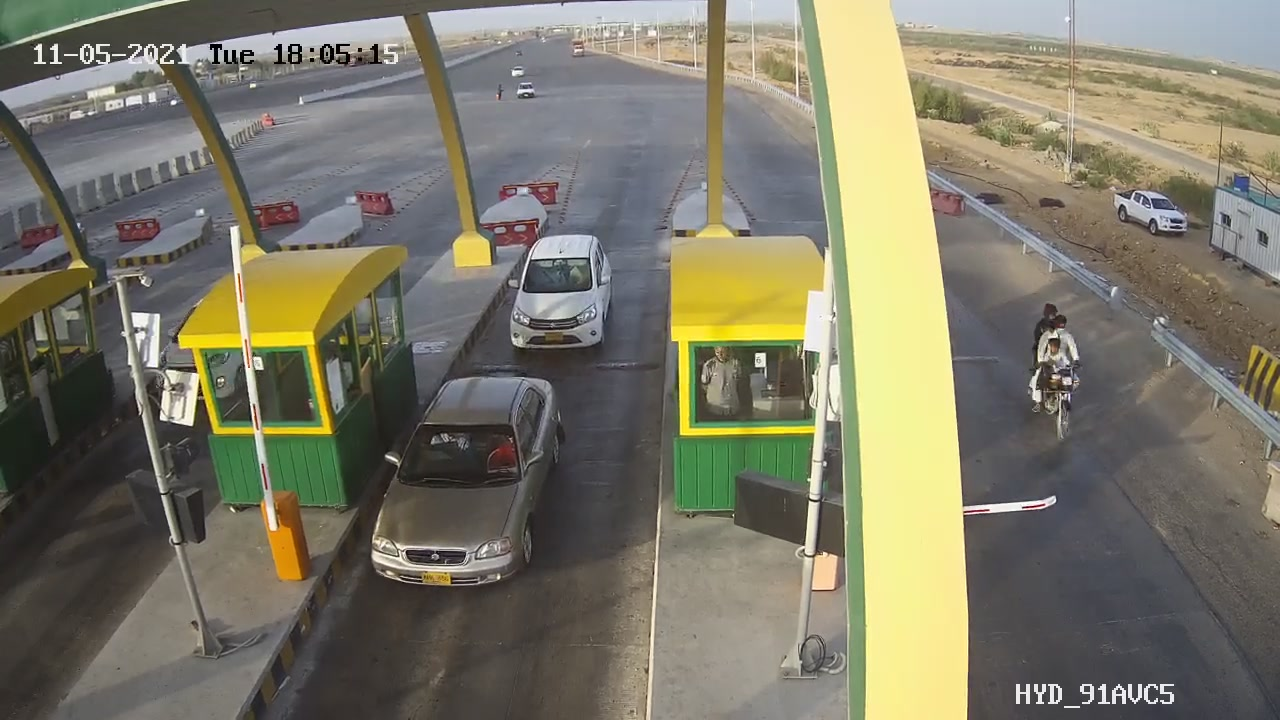F1: (357, 360, 581, 618), (489, 224, 642, 359)
